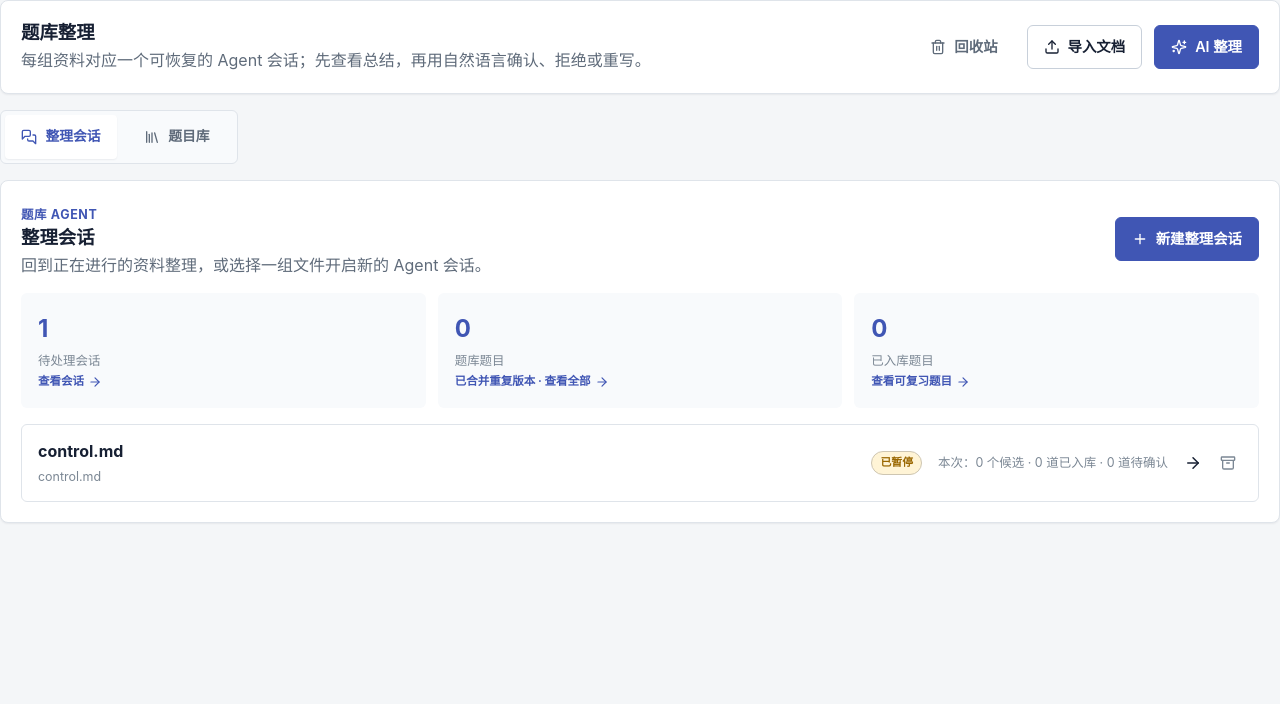
Test: QuestionCatalog › shows safe recovery guidance when terminate fails
Click the button "control.md control.md 已暂停 本次：0 个候选 · 0 道已入库 · 0 道待确认" at (81, 451), box [22,425,1258,501]
(page scrolled)
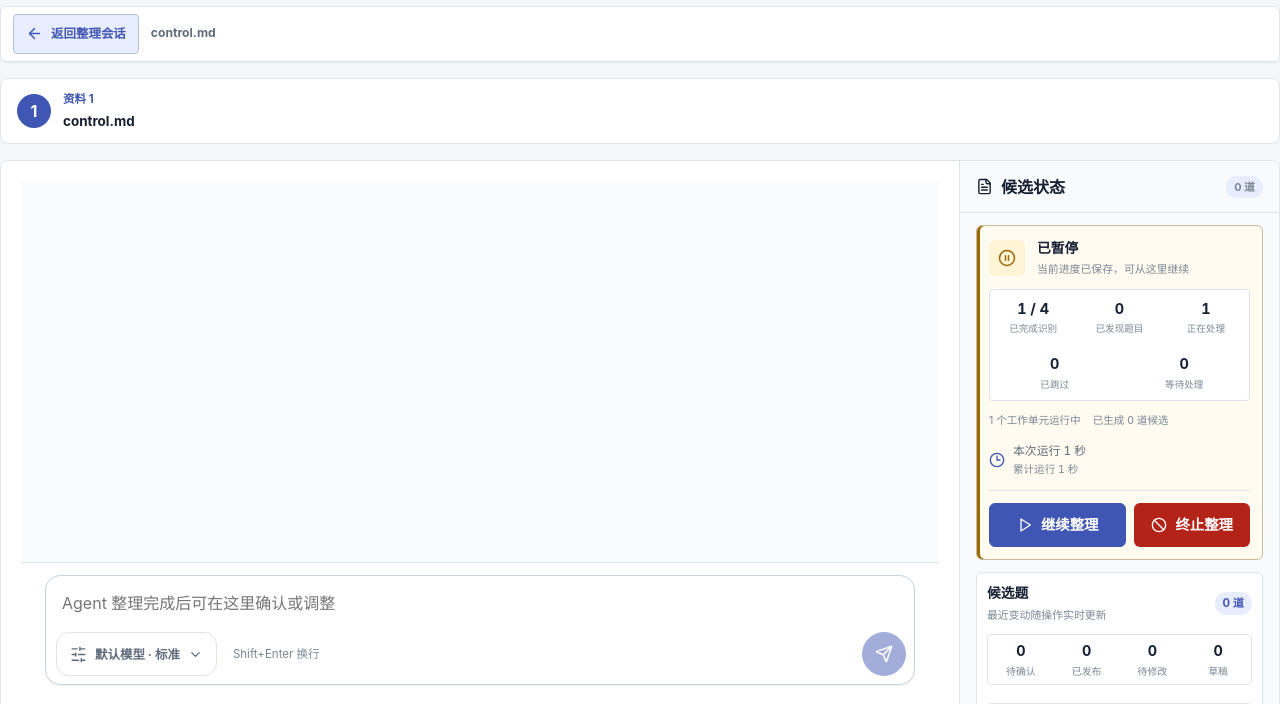
Click the button "终止整理" at (1192, 526), box [1134,504,1250,548]
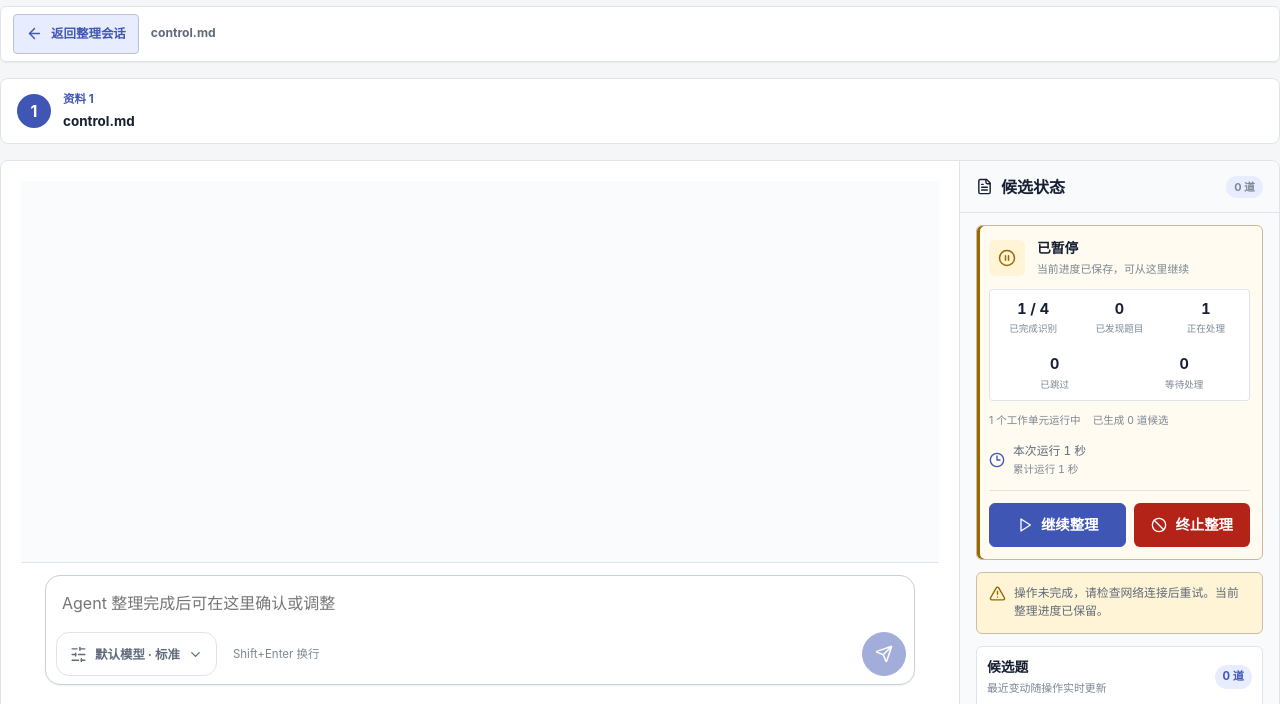
Check: the message named "整理控制提示" does not show "SQLITE secret table leaked", box [976,572,1263,634]
Check: the message named "整理控制提示" reads "操作未完成，请检查网络连接后重试。当前整理进度已保留。", box [1014,586,1239,618]
